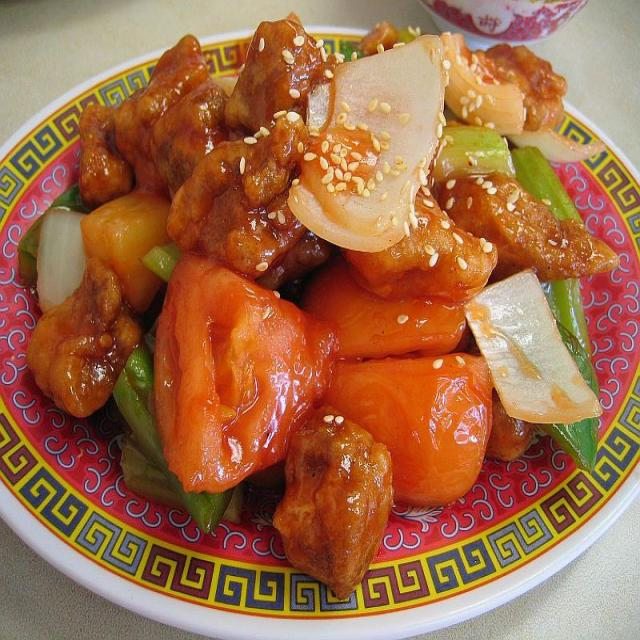猪肉菜式: (20, 10, 621, 596)
